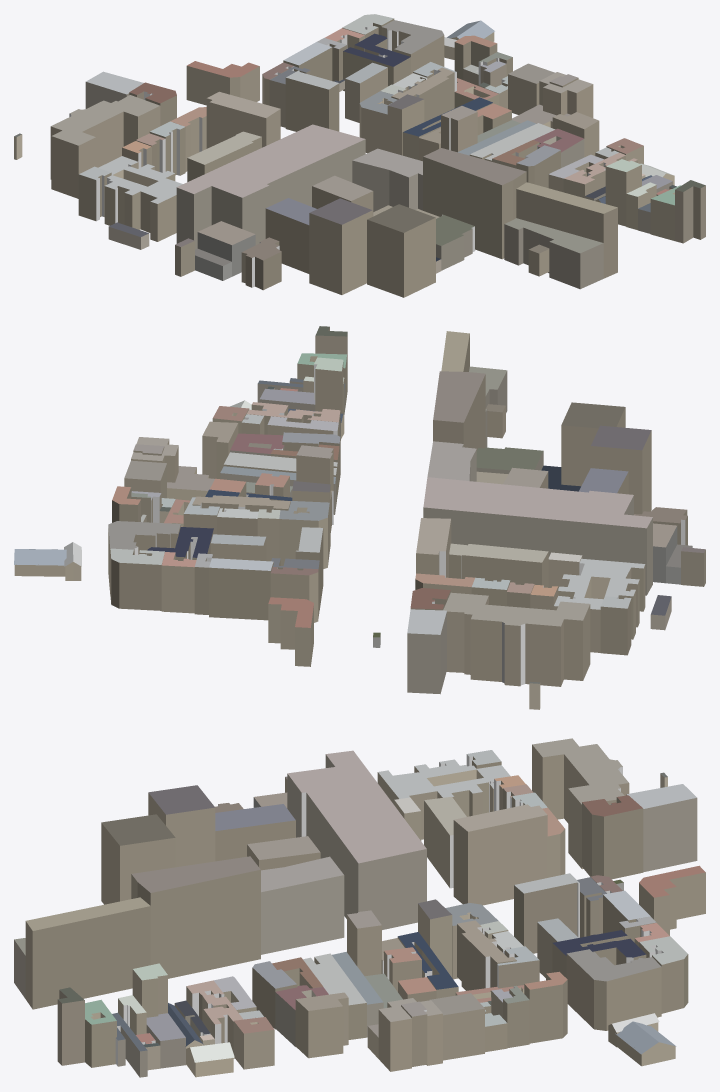
3 renders of one model, top to bottom at view 1: azimuth 30°, elevation 25°; view 2: azimuth 150°, elevation 25°; view 3: azimuth 270°, elevation 25°, orthographic. The views are drawn at different scales.
Visible parts, largest first — view 1: tuile; view 2: tuile; view 3: tuile.
Part boxes in pixels (<box>): tuile: <box>14,14,705,297</box>; tuile: <box>14,326,705,709</box>; tuile: <box>14,738,705,1077</box>.
Size of the model in its own units: 263 by 40.77 by 272.
